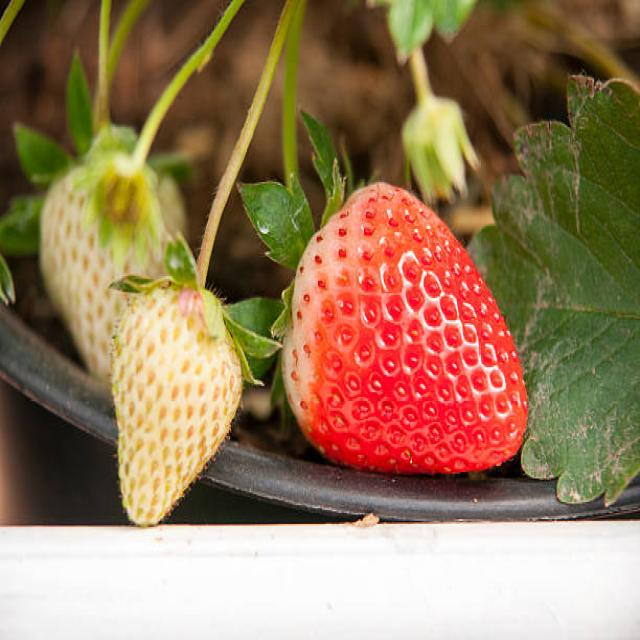Healthy Fruit: (284, 183, 527, 473), (111, 282, 242, 527)
